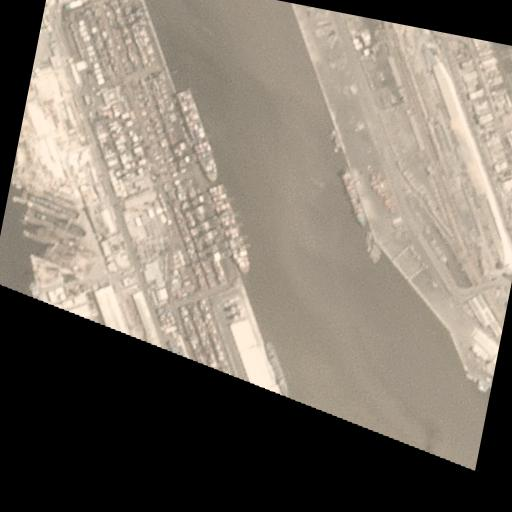ship: (158, 87, 232, 181), (192, 183, 262, 273), (329, 170, 374, 228), (253, 342, 297, 396)
